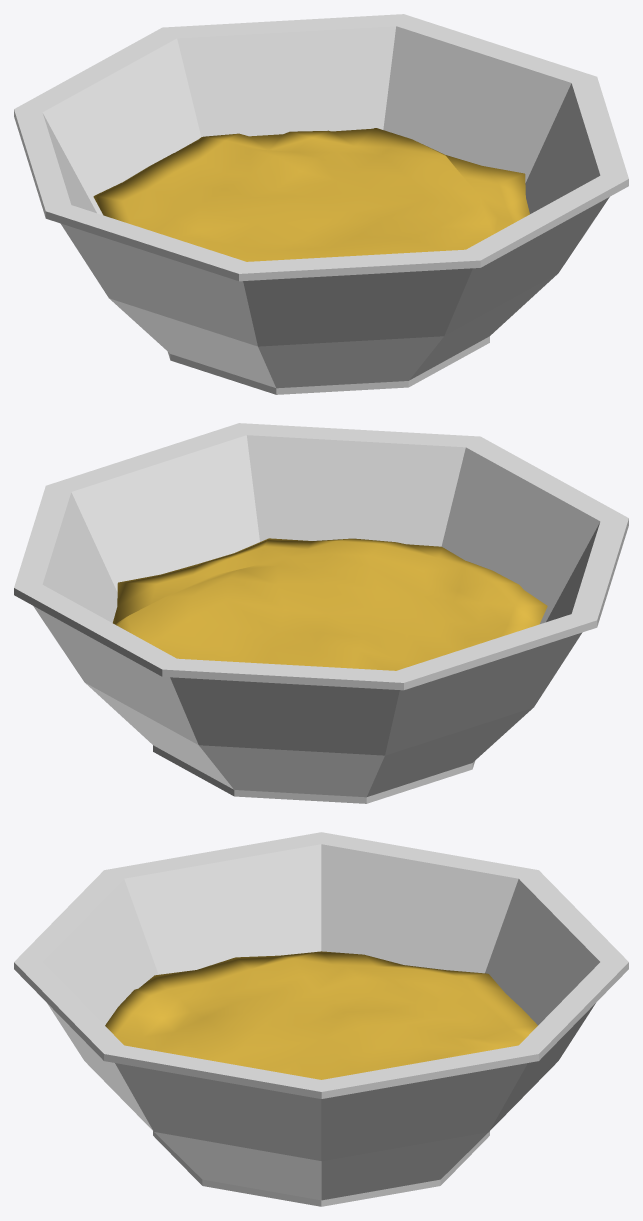
The model's file is aderezo.fbx.
The picture shows the model from 3 angles, top to bottom: view 1: azimuth 30°, elevation 25°; view 2: azimuth 150°, elevation 25°; view 3: azimuth 270°, elevation 25°; orthographic projection. The views are drawn at different scales.
Parts seen in each view (by area): view 1: Bowl.001, aderezo; view 2: Bowl.001, aderezo; view 3: Bowl.001, aderezo.
Part boxes in pixels (x1,y1,x2,y2): Bowl.001: (14, 14, 628, 394); aderezo: (93, 128, 529, 261); Bowl.001: (14, 423, 628, 803); aderezo: (113, 538, 547, 670); Bowl.001: (14, 832, 628, 1206); aderezo: (105, 951, 537, 1079).
Size of the model in its own units: 28.69 by 8.93 by 28.69.
